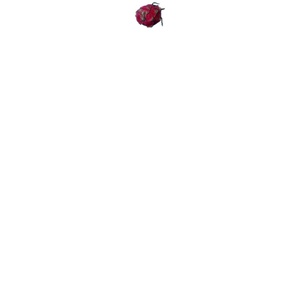pitaia: (134, 3, 163, 28)
